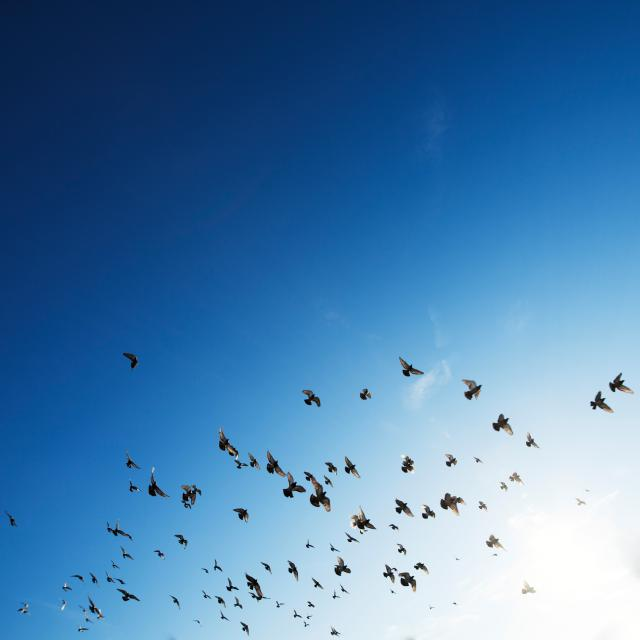bird: (351, 506, 377, 534), (179, 482, 202, 509), (148, 473, 170, 501), (218, 429, 239, 457), (442, 492, 464, 518), (590, 392, 612, 417), (398, 360, 424, 380), (265, 452, 285, 478), (308, 491, 331, 513), (305, 471, 326, 495), (244, 575, 264, 600), (492, 414, 513, 437), (462, 381, 482, 404), (610, 374, 632, 394), (107, 521, 130, 540), (394, 500, 414, 520), (399, 572, 418, 592), (484, 534, 504, 553), (333, 556, 352, 576), (303, 392, 322, 410), (344, 459, 360, 480), (118, 588, 139, 603), (231, 507, 250, 523), (400, 456, 415, 476), (288, 562, 302, 582), (382, 564, 396, 584), (125, 453, 142, 469), (124, 355, 140, 372), (280, 484, 296, 501), (443, 452, 458, 470), (289, 479, 307, 494), (420, 505, 435, 522), (89, 603, 104, 620), (524, 433, 538, 451), (173, 535, 189, 550), (520, 580, 535, 596), (246, 453, 260, 470), (359, 389, 374, 404), (509, 471, 523, 487), (225, 579, 240, 593), (325, 464, 340, 477), (344, 534, 360, 546), (7, 512, 19, 528), (120, 548, 134, 561), (396, 543, 409, 557), (260, 562, 273, 576), (413, 564, 429, 575), (128, 481, 141, 494), (239, 622, 251, 636), (310, 579, 324, 591), (232, 460, 246, 472), (338, 582, 350, 596), (232, 597, 244, 610), (17, 604, 30, 616), (499, 481, 512, 493), (216, 594, 228, 606), (169, 595, 181, 607), (214, 559, 225, 572), (478, 502, 489, 514), (292, 610, 304, 621), (576, 498, 588, 509), (330, 626, 342, 637), (154, 550, 167, 560), (89, 575, 100, 586), (104, 574, 116, 584), (116, 578, 128, 588), (82, 611, 92, 623), (61, 583, 72, 593), (304, 540, 315, 550), (306, 598, 316, 609), (390, 523, 402, 532), (59, 598, 68, 610), (71, 576, 84, 584), (202, 590, 212, 600), (111, 560, 121, 570), (330, 544, 340, 554), (274, 599, 284, 609), (76, 625, 87, 634), (201, 567, 211, 576), (220, 613, 230, 622), (304, 613, 315, 620), (194, 619, 202, 626), (474, 455, 481, 463), (388, 588, 395, 594), (302, 621, 310, 626), (452, 600, 458, 606), (454, 556, 460, 561), (429, 604, 433, 611)
